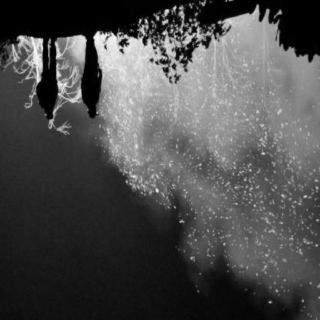Fire: (101, 18, 320, 320)
